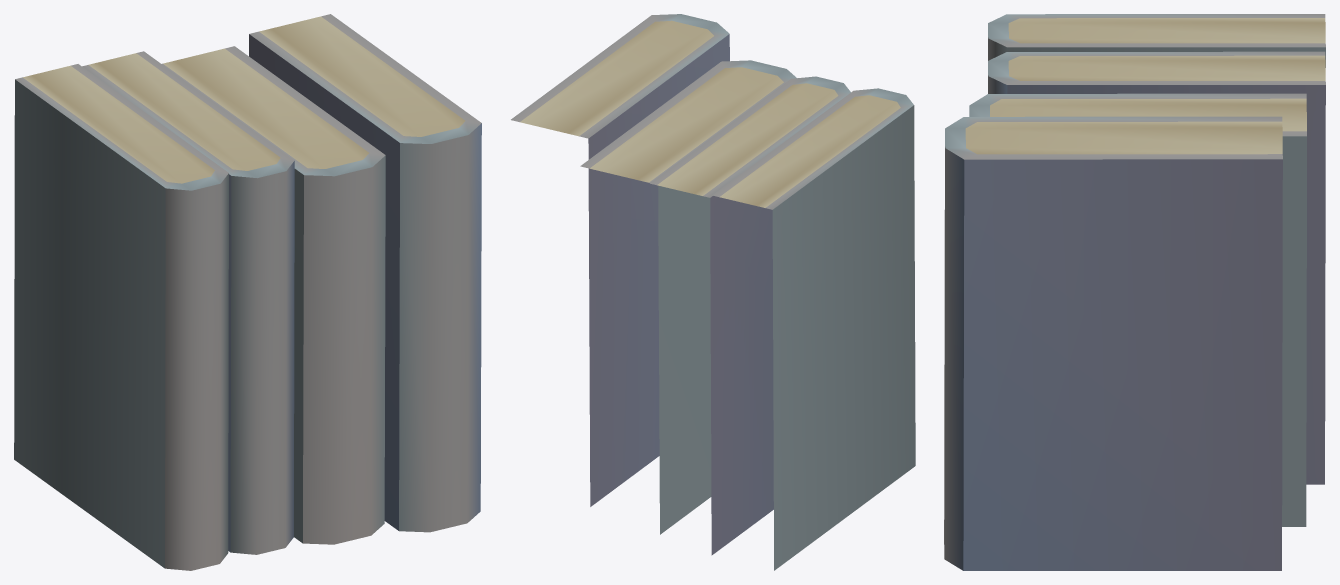
File: BookGroup_Small_2.glb
3 renders of one model, left to right at view 1: azimuth 30°, elevation 25°; view 2: azimuth 150°, elevation 25°; view 3: azimuth 270°, elevation 25°, orthographic. The views are drawn at different scales.
Parts seen in each view (by area): view 1: BookGroup_Small_2; view 2: BookGroup_Small_2; view 3: BookGroup_Small_2.
Part boxes in pixels (left/top/right/bottom): BookGroup_Small_2: left=14, top=14, right=481, bottom=570; BookGroup_Small_2: left=511, top=14, right=915, bottom=570; BookGroup_Small_2: left=944, top=14, right=1325, bottom=570.
Size of the model in its own units: 0.2276 by 0.2831 by 0.2372.
